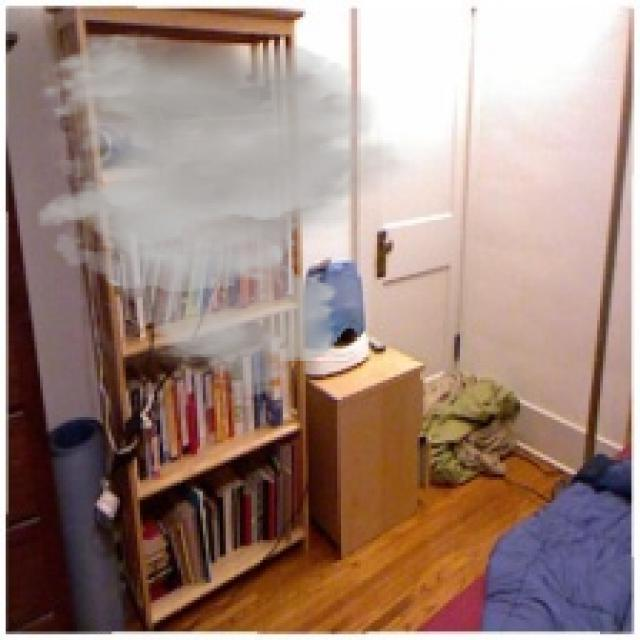smoke: (34, 31, 420, 408)
